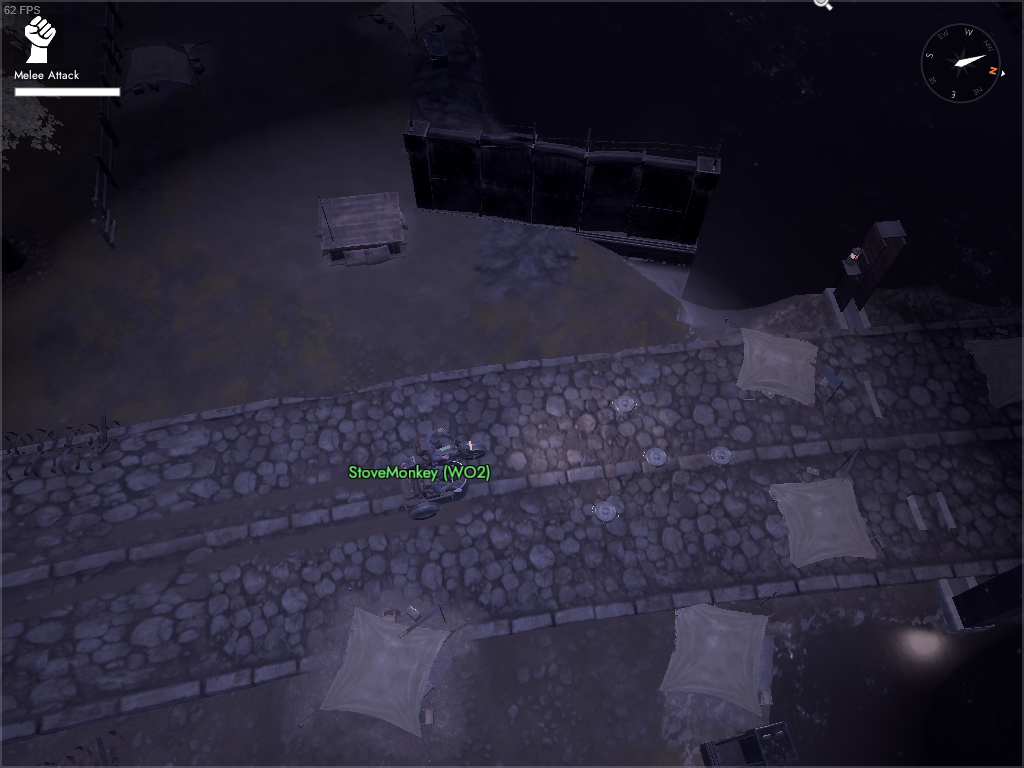fortified_wall: (399, 103, 727, 270), (697, 717, 803, 768)
foxhole: (296, 589, 477, 764), (645, 581, 784, 735), (756, 440, 892, 581), (712, 315, 846, 426), (942, 311, 1024, 417), (98, 32, 212, 108), (355, 1, 468, 60)
lowered_gate: (817, 216, 1024, 638)
motorcycle: (389, 422, 495, 525), (412, 422, 462, 468), (410, 463, 462, 506)
pillbox: (314, 185, 412, 272)
storage_box: (417, 26, 454, 73)
